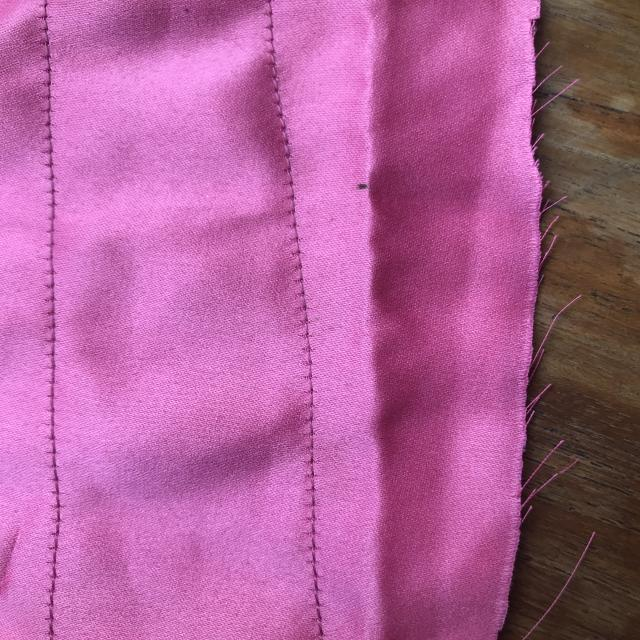good: (256, 62, 317, 181)
